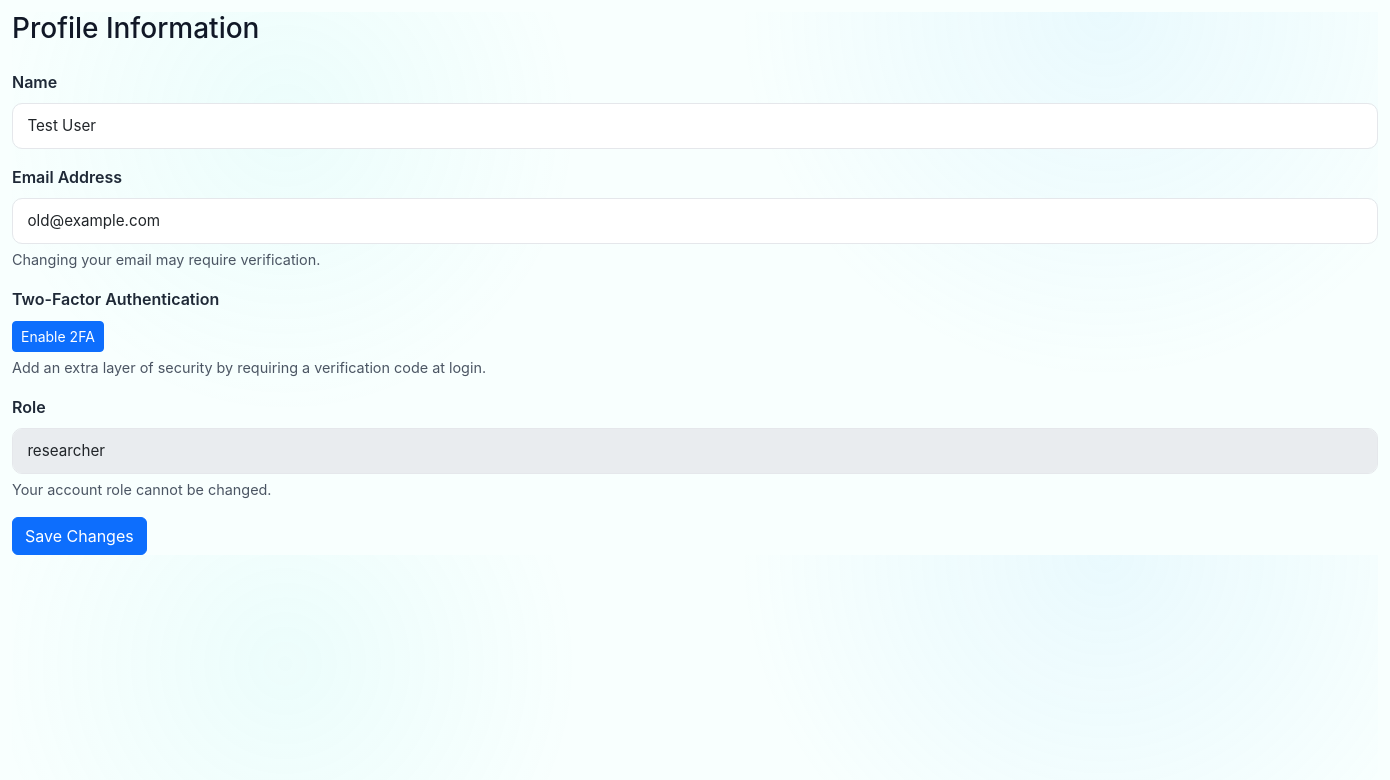
Test: ProfileSettings › shows re-verification success message when email changes
Replace the text in the field labelled "Email Address" with "new@example.com" at (695, 221), box [12,198,1378,244]
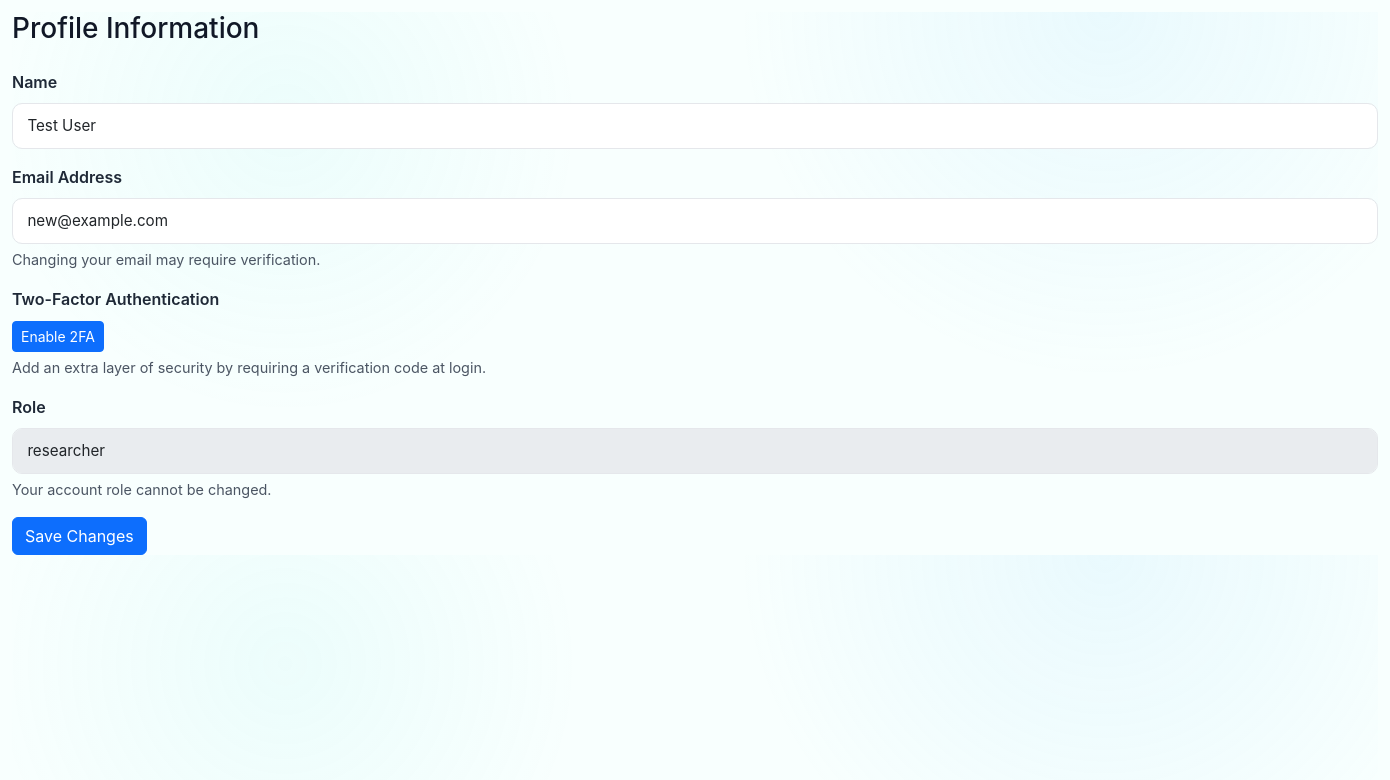
Click the button "Save Changes" at (79, 536), box [12,517,147,555]
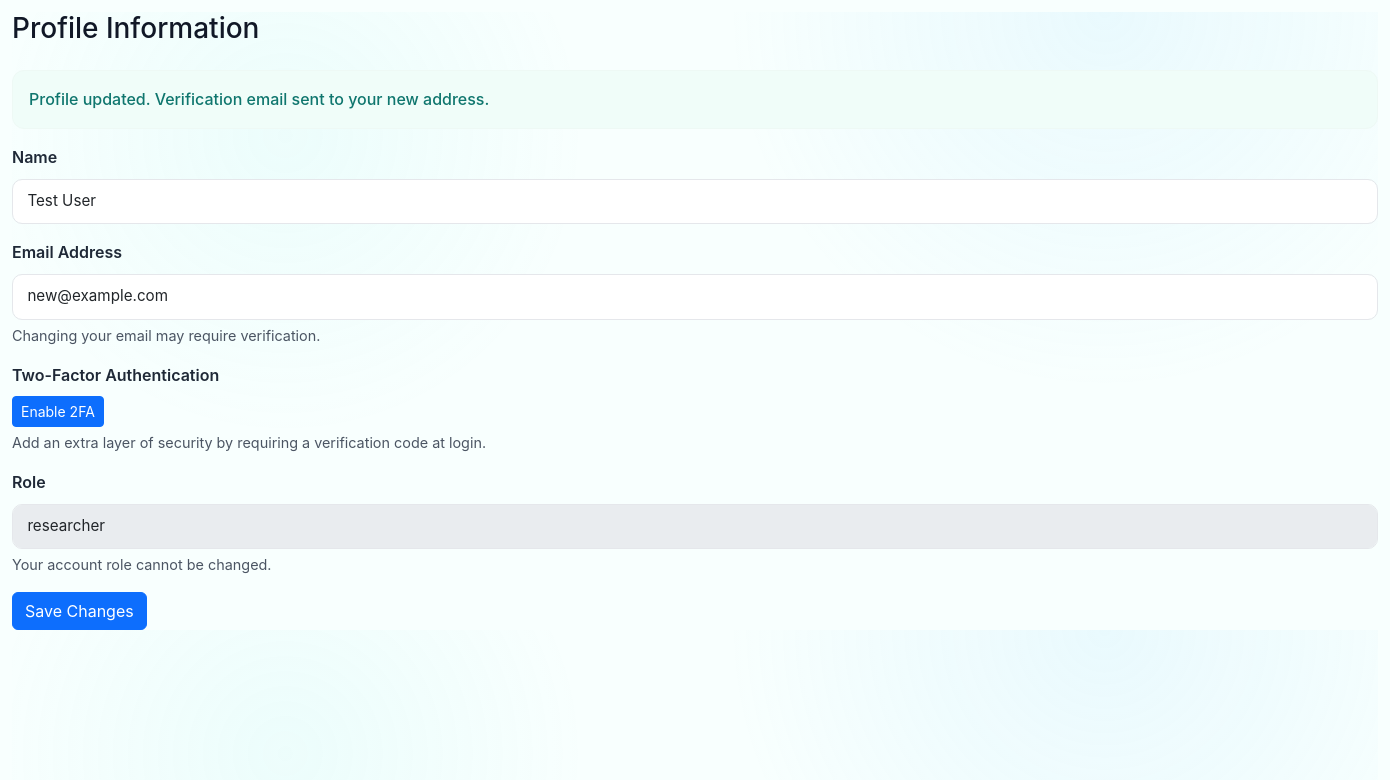
Check: the text "Profile updated. Verification email sent to your new address." is shown, box [12,70,1378,129]
